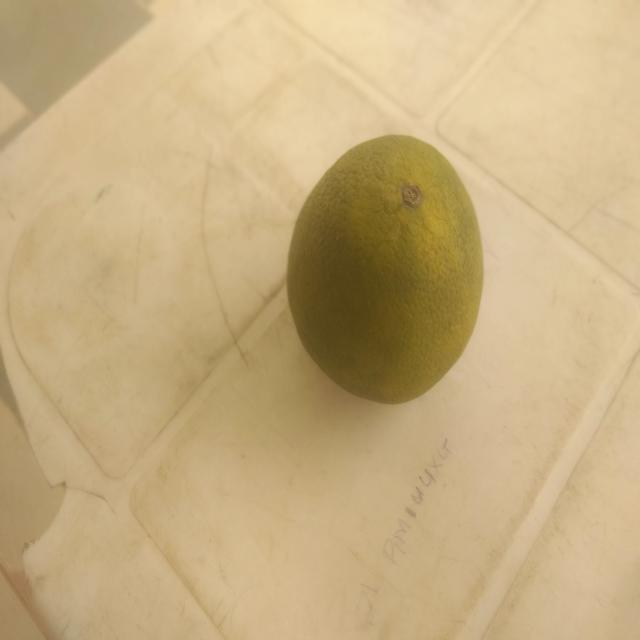Unripe: (277, 110, 494, 413)
